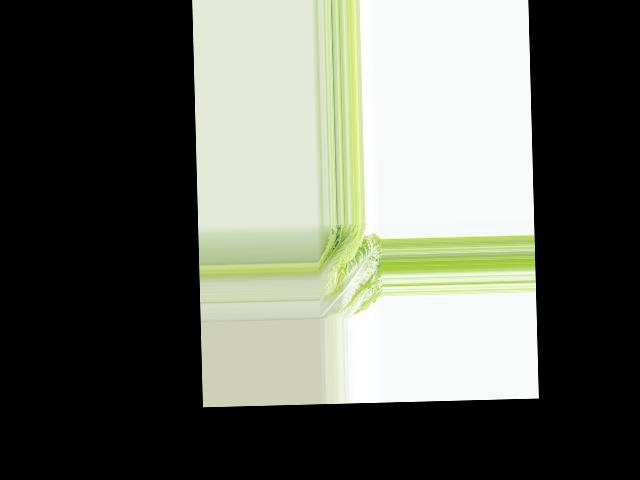lettuce: (317, 221, 382, 319)
